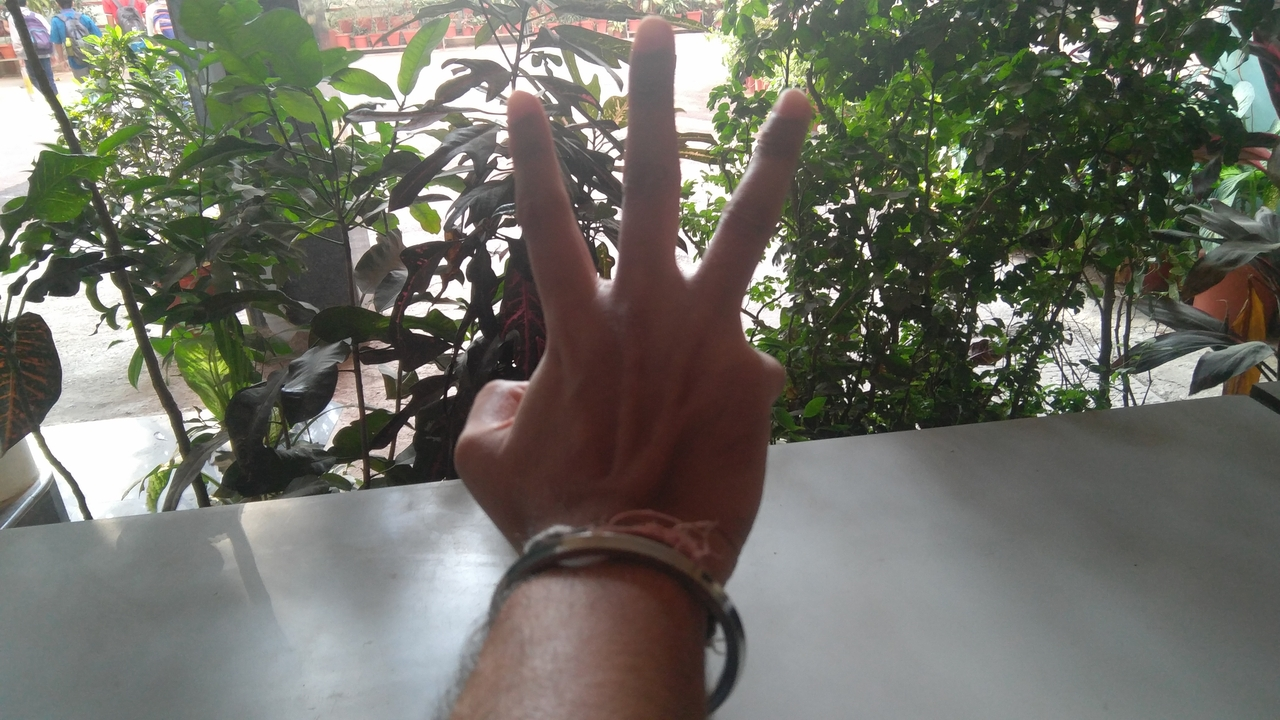fingertip: (760, 80, 820, 138), (500, 84, 546, 130), (632, 12, 676, 58)
